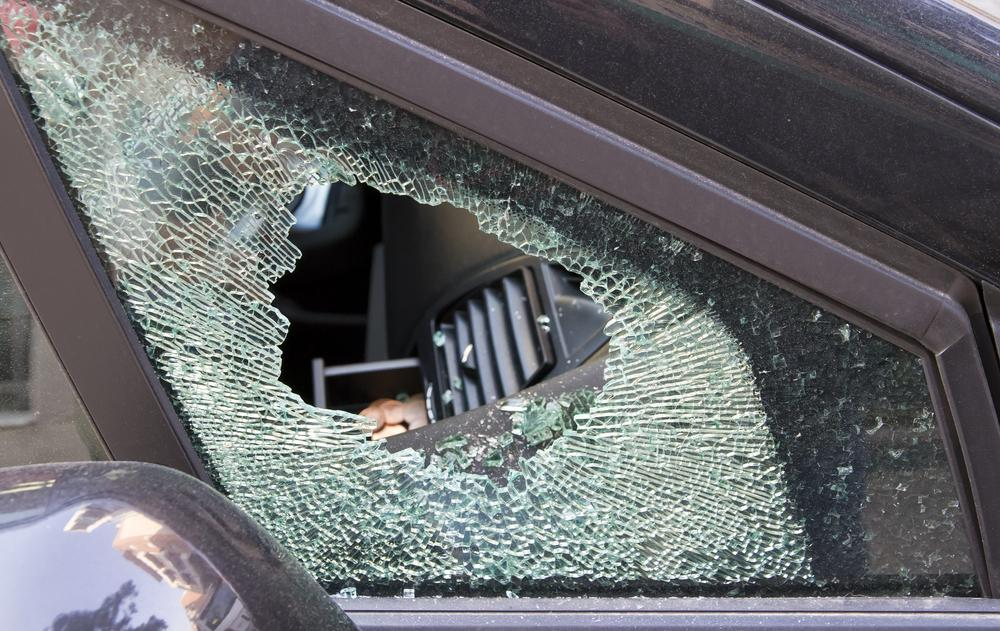glass shatter: (0, 0, 990, 597)
